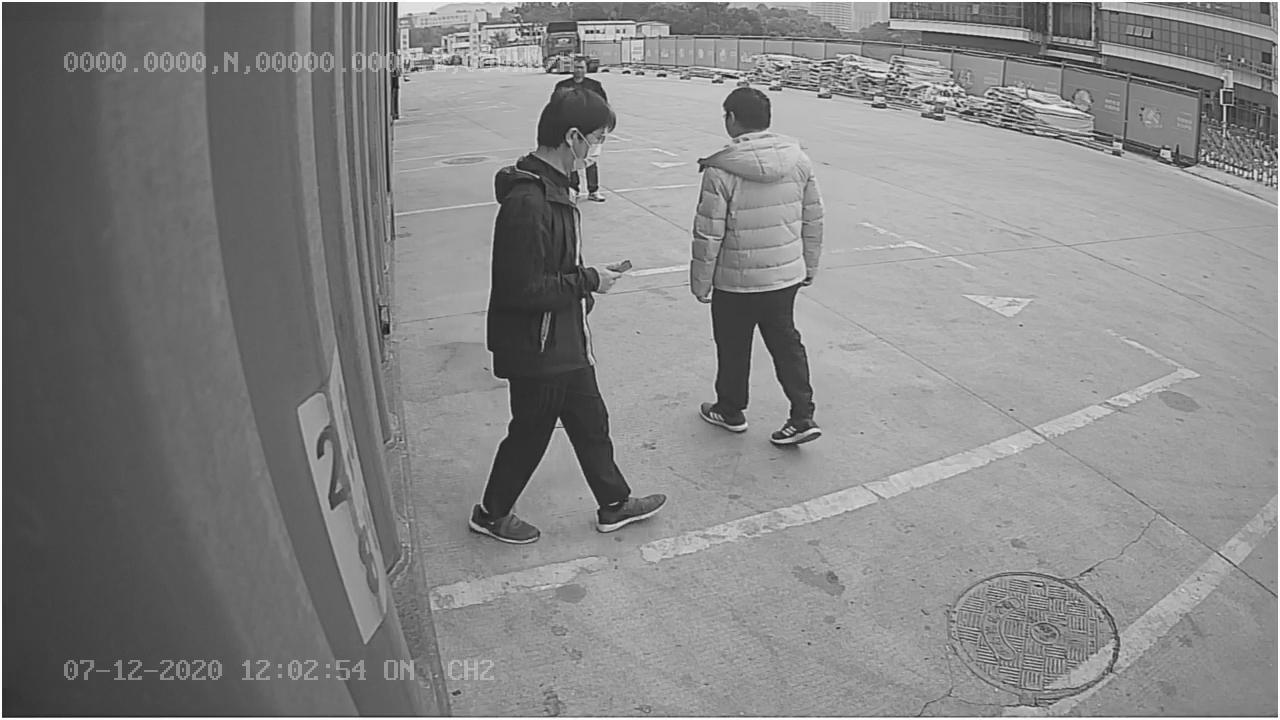person: (688, 89, 832, 454)
